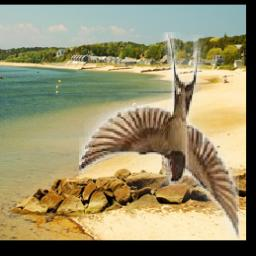Swallow: (79, 32, 239, 239)
